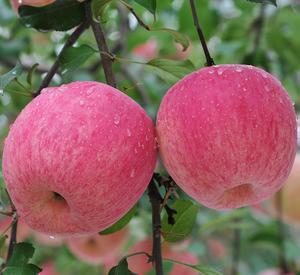apple: (6, 81, 159, 246), (156, 66, 299, 205)
